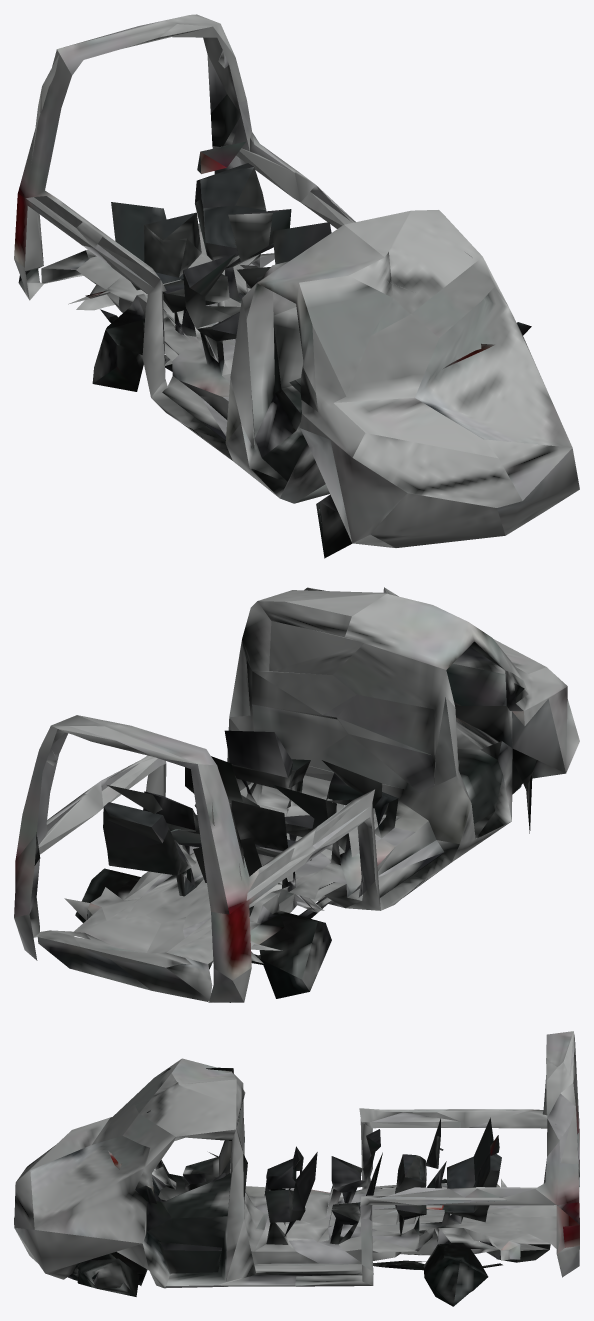
File: suttle_bus_1_lod2.glb
3 views of the same model, one above another, from view 1: azimuth 30°, elevation 25°; view 2: azimuth 150°, elevation 25°; view 3: azimuth 270°, elevation 25° (orthographic). The views are drawn at different scales.
Parts seen in each view (by area): view 1: tripo_node_5ab090f9; view 2: tripo_node_5ab090f9; view 3: tripo_node_5ab090f9.
Boxes of the visible parts, left/top/right/bottom form: tripo_node_5ab090f9: left=14, top=14, right=579, bottom=558; tripo_node_5ab090f9: left=14, top=587, right=579, bottom=1002; tripo_node_5ab090f9: left=14, top=1031, right=579, bottom=1306.
Size of the model in its own units: 38.8 by 43.38 by 99.74.
Materials: 1 (1 with a texture image).
